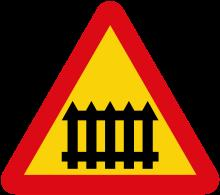Barrier Ahead: (10, 10, 210, 187)
